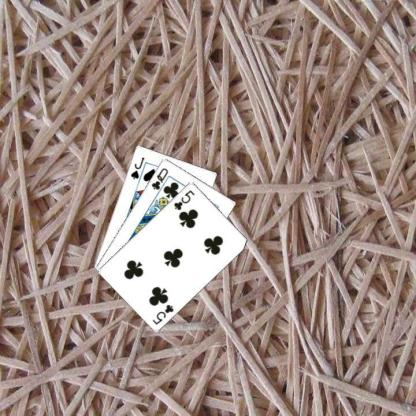5C: (171, 187, 196, 212), (150, 302, 175, 325)
JS: (128, 154, 146, 180)
QC: (149, 165, 169, 191)
